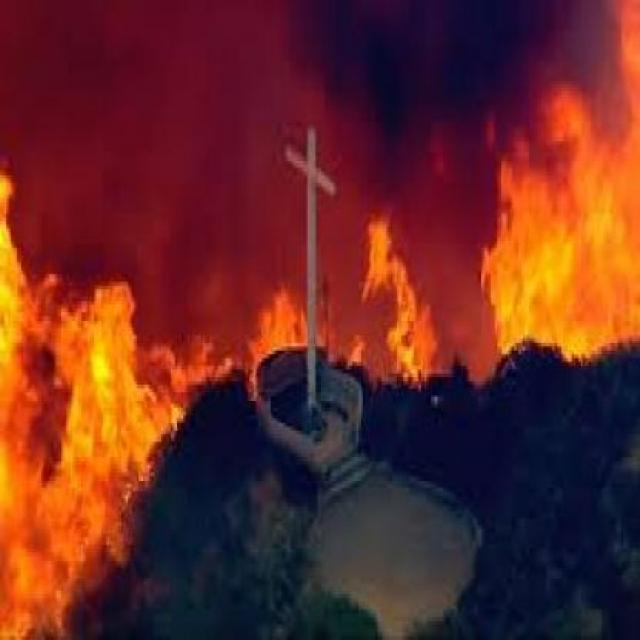Fire: (0, 89, 297, 638), (408, 0, 640, 363)
